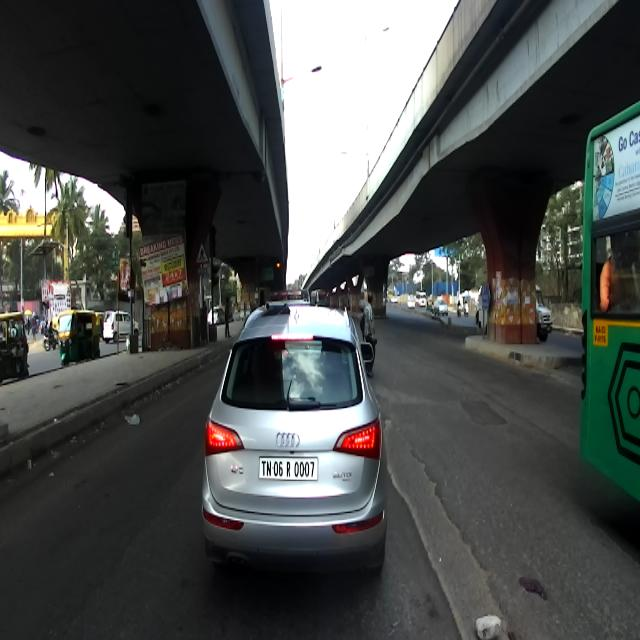car ahead at: (200, 294, 387, 588)
